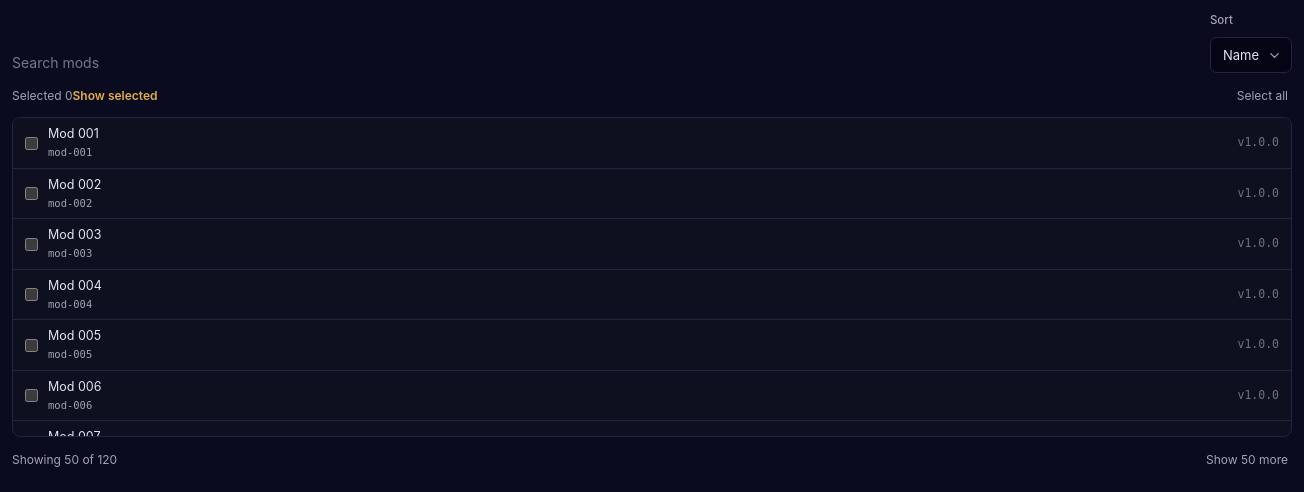
it: <ModMultiSelect> windowing › renders only the first page of a 100+ mod library and pages in the rest
expect the text "Showing 50 of 120" is shown: met, box [12, 451, 117, 469]
# Reveal the next full page.
Step 1. Click the button "Show 50 more" → (1247, 460), box [1202, 449, 1292, 471]
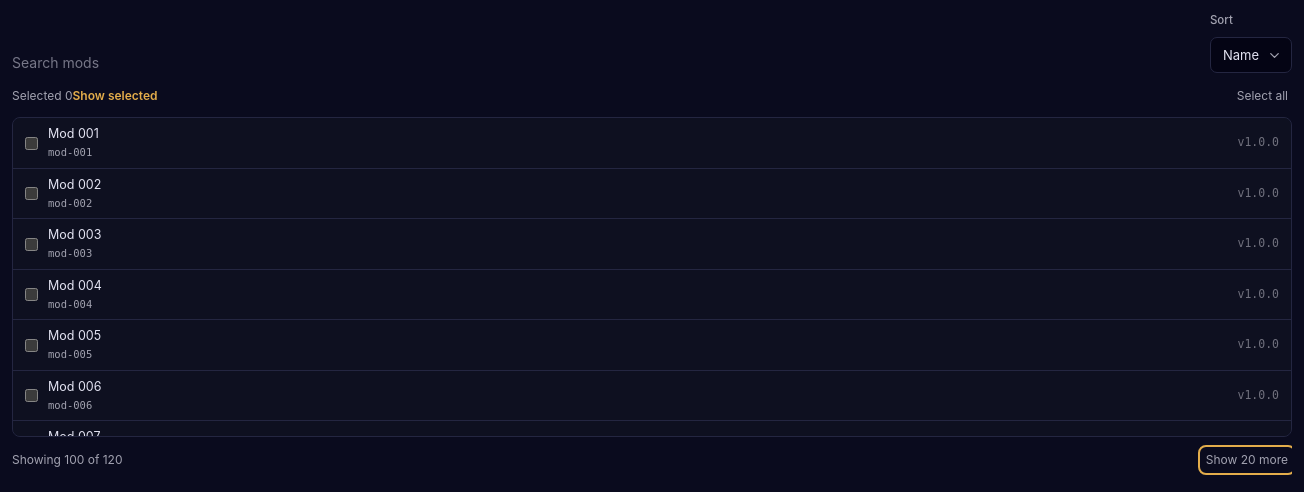
expect the text "Showing 100 of 120" is shown: met, box [12, 451, 122, 469]
Step 2. Click the button "Show 20 more" → (1247, 460), box [1202, 449, 1292, 471]
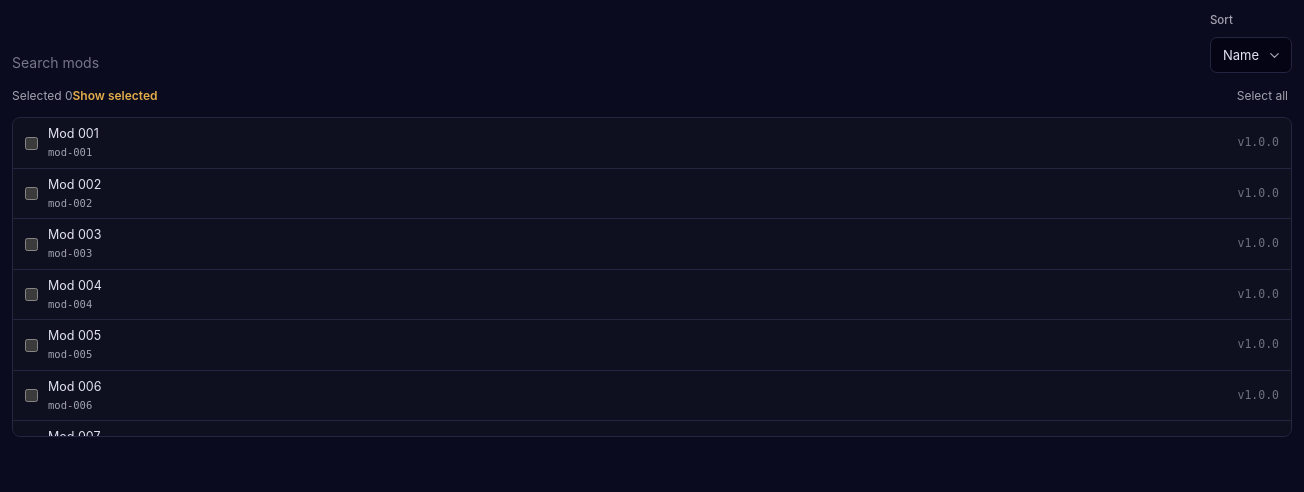
expect the text "Showing" is gone: met
expect the button "Show 20 more" is gone: met
